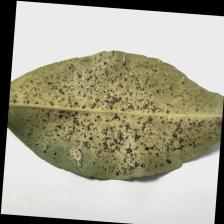canker: (45, 71, 162, 154)
